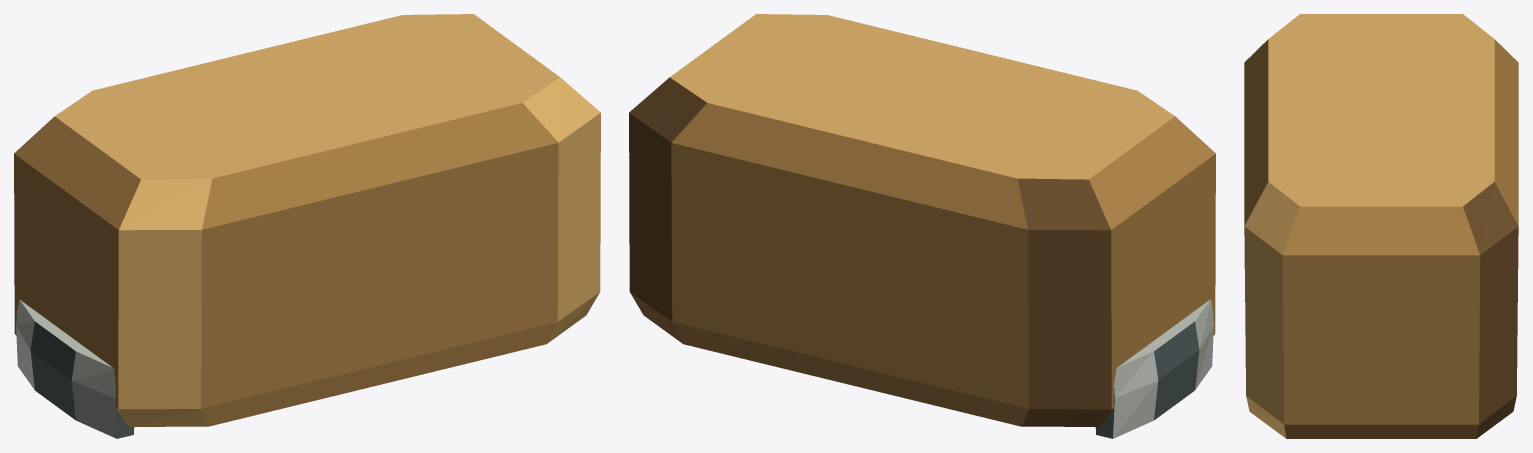
File: lighter-lid.obj
3 renders of one model, left to right at view 1: azimuth 30°, elevation 25°; view 2: azimuth 150°, elevation 25°; view 3: azimuth 270°, elevation 25°, orthographic. The views are drawn at different scales.
Visible parts, largest first — view 1: LighterLid; view 2: LighterLid; view 3: LighterLid.
Part boxes in pixels (x1=…): LighterLid: x1=14, y1=14, x2=600, y2=438; LighterLid: x1=629, y1=14, x2=1215, y2=438; LighterLid: x1=1244, y1=14, x2=1518, y2=438.
Bounding box in the file's own units: 0.3157 × 0.15 × 0.16.
